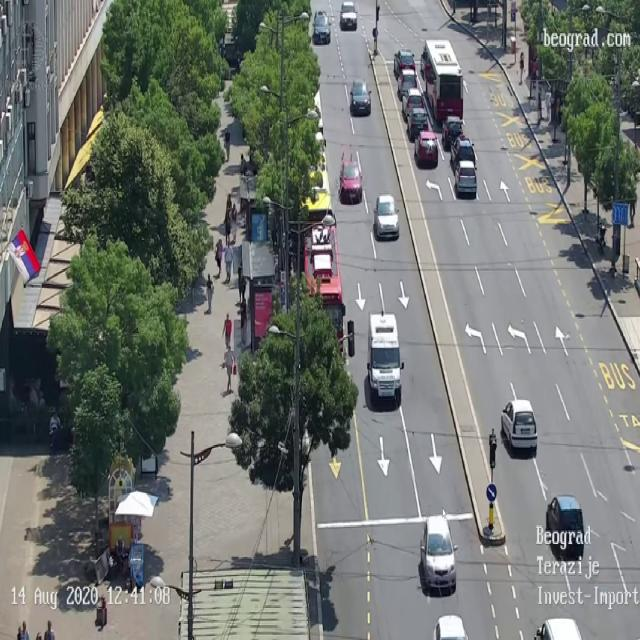bus: (301, 218, 346, 320), (420, 38, 463, 123), (295, 127, 332, 222), (303, 90, 324, 135)
car: (420, 508, 457, 594), (368, 312, 398, 408), (545, 494, 584, 561), (501, 399, 537, 452), (374, 194, 399, 240), (534, 617, 582, 639), (433, 614, 469, 639), (349, 78, 372, 116), (458, 164, 478, 202), (452, 138, 478, 166), (417, 132, 435, 169), (441, 113, 462, 144), (339, 1, 357, 30), (393, 46, 409, 77), (412, 110, 429, 138), (401, 92, 420, 117), (313, 10, 325, 41), (400, 70, 412, 93)
